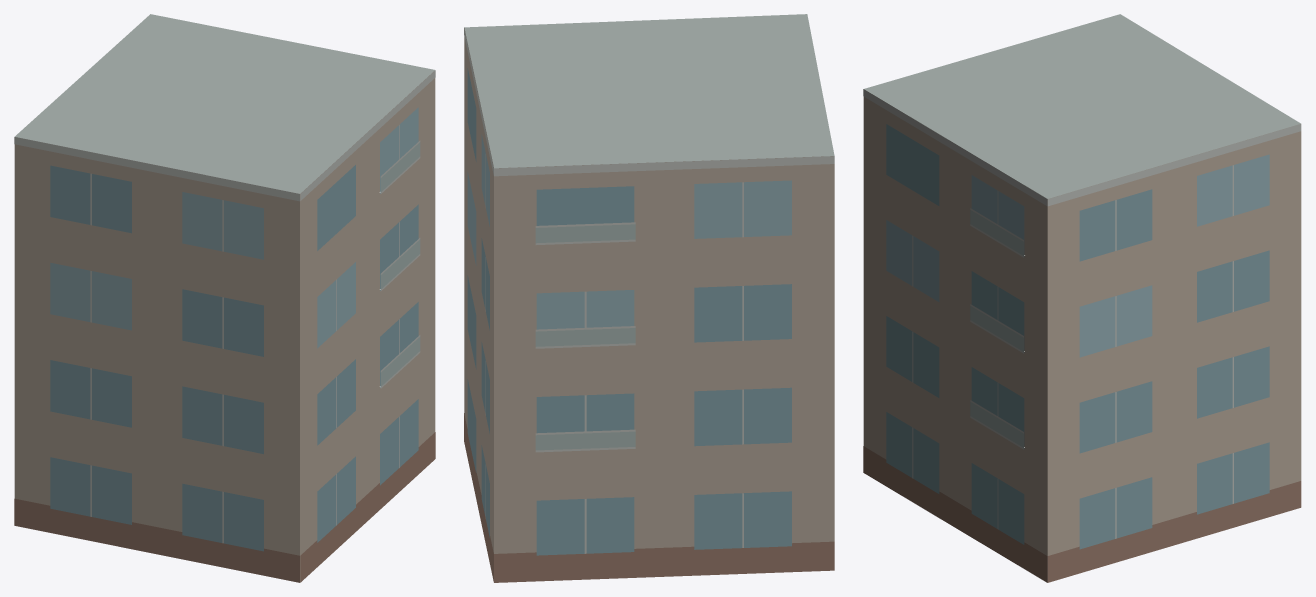
File: survey-upis-32751571.glb
The picture shows the model from 3 angles, left to right: view 1: azimuth 30°, elevation 25°; view 2: azimuth 150°, elevation 25°; view 3: azimuth 270°, elevation 25°; orthographic projection. The views are drawn at different scales.
Parts seen in each view (by area): view 1: survey-upis-32751571.tmp; view 2: survey-upis-32751571.tmp; view 3: survey-upis-32751571.tmp.
Boxes of the visible parts, x1,y1,x2,y2 form: survey-upis-32751571.tmp: [14, 14, 435, 582]; survey-upis-32751571.tmp: [464, 14, 834, 582]; survey-upis-32751571.tmp: [863, 14, 1301, 582].
Bounding box in the file's own units: 13.03 × 12.6 × 13.03.
